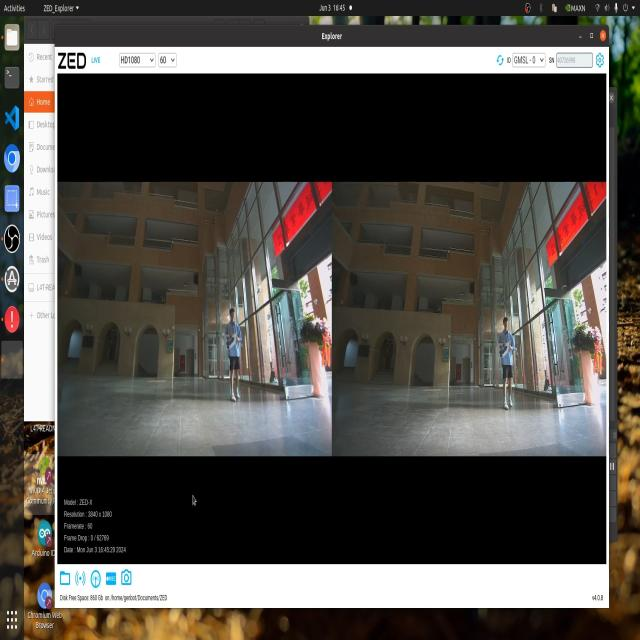blue: (499, 338, 509, 359), (227, 328, 234, 346)
